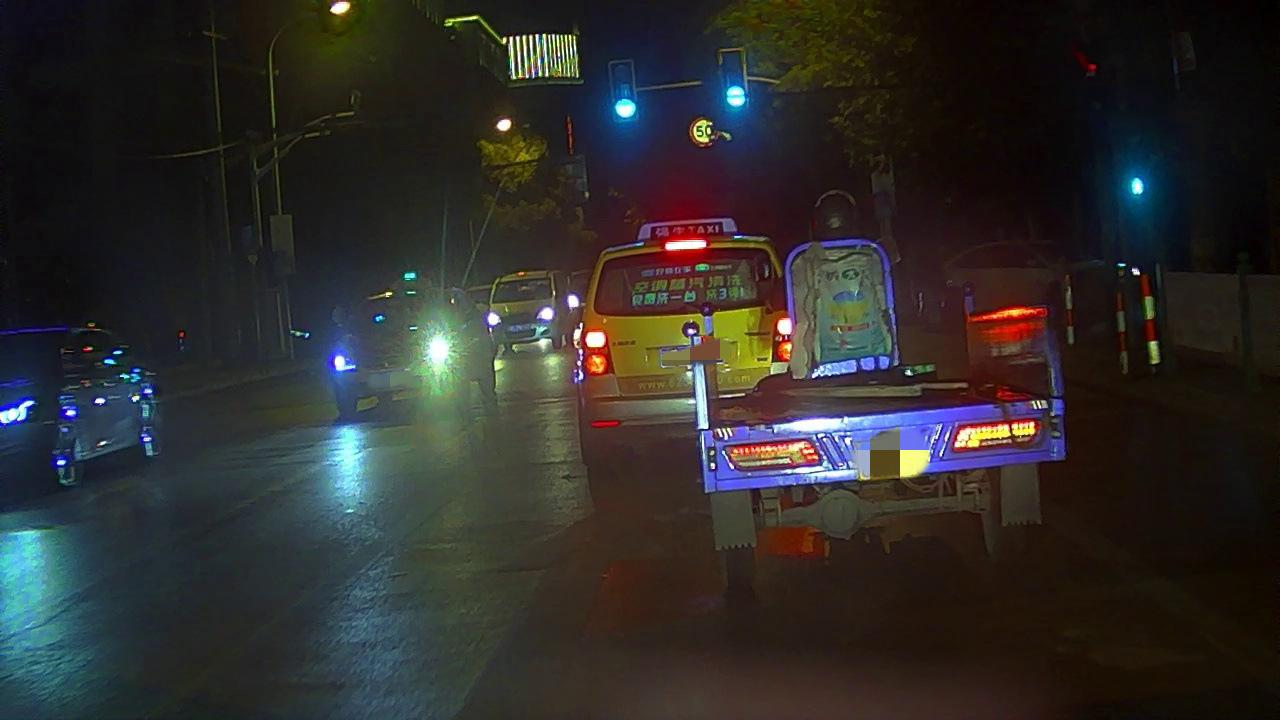traffic_light: (610, 63, 638, 122), (722, 53, 747, 116), (1118, 163, 1153, 202)
